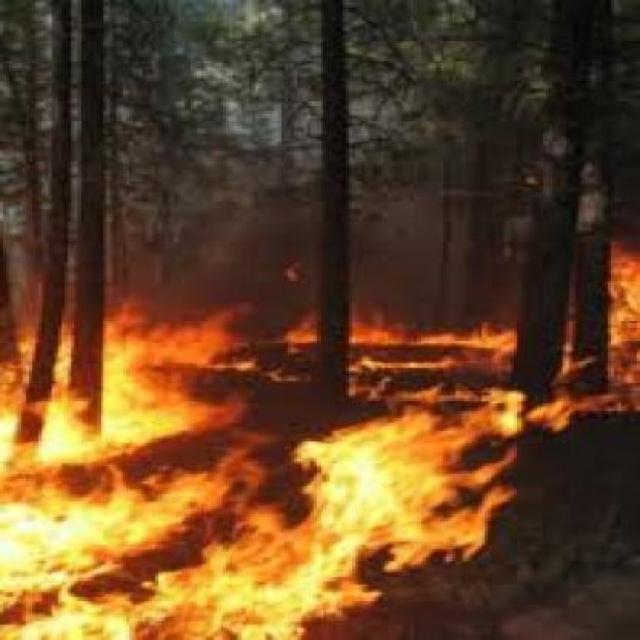Fire: (0, 254, 609, 634)
